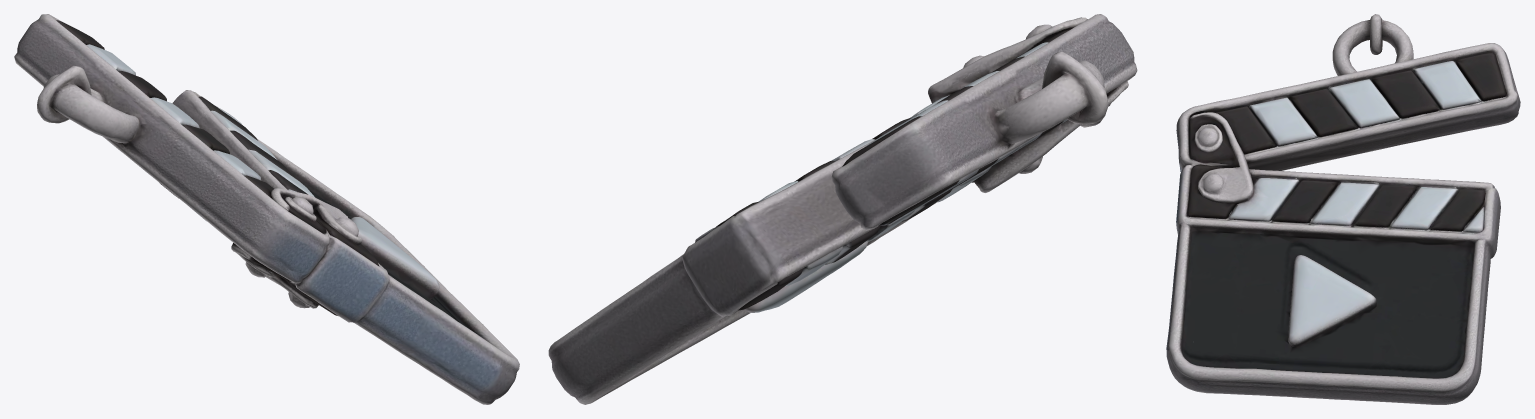
Rendered from clapper.glb.
3 renders of one model, left to right at view 1: azimuth 30°, elevation 25°; view 2: azimuth 150°, elevation 25°; view 3: azimuth 270°, elevation 25°, orthographic. The views are drawn at different scales.
Visible parts, largest first — view 1: tripo_node_09e88216-650a-48e3-b67a-bc12321a44a5; view 2: tripo_node_09e88216-650a-48e3-b67a-bc12321a44a5; view 3: tripo_node_09e88216-650a-48e3-b67a-bc12321a44a5.
Boxes of the visible parts, x1=… form: tripo_node_09e88216-650a-48e3-b67a-bc12321a44a5: x1=14, y1=14, x2=519, y2=404; tripo_node_09e88216-650a-48e3-b67a-bc12321a44a5: x1=548, y1=14, x2=1137, y2=404; tripo_node_09e88216-650a-48e3-b67a-bc12321a44a5: x1=1166, y1=14, x2=1520, y2=404.
Bounding box in the file's own units: 0.9494 × 0.7447 × 0.9175.
1 material, 1 textured.
